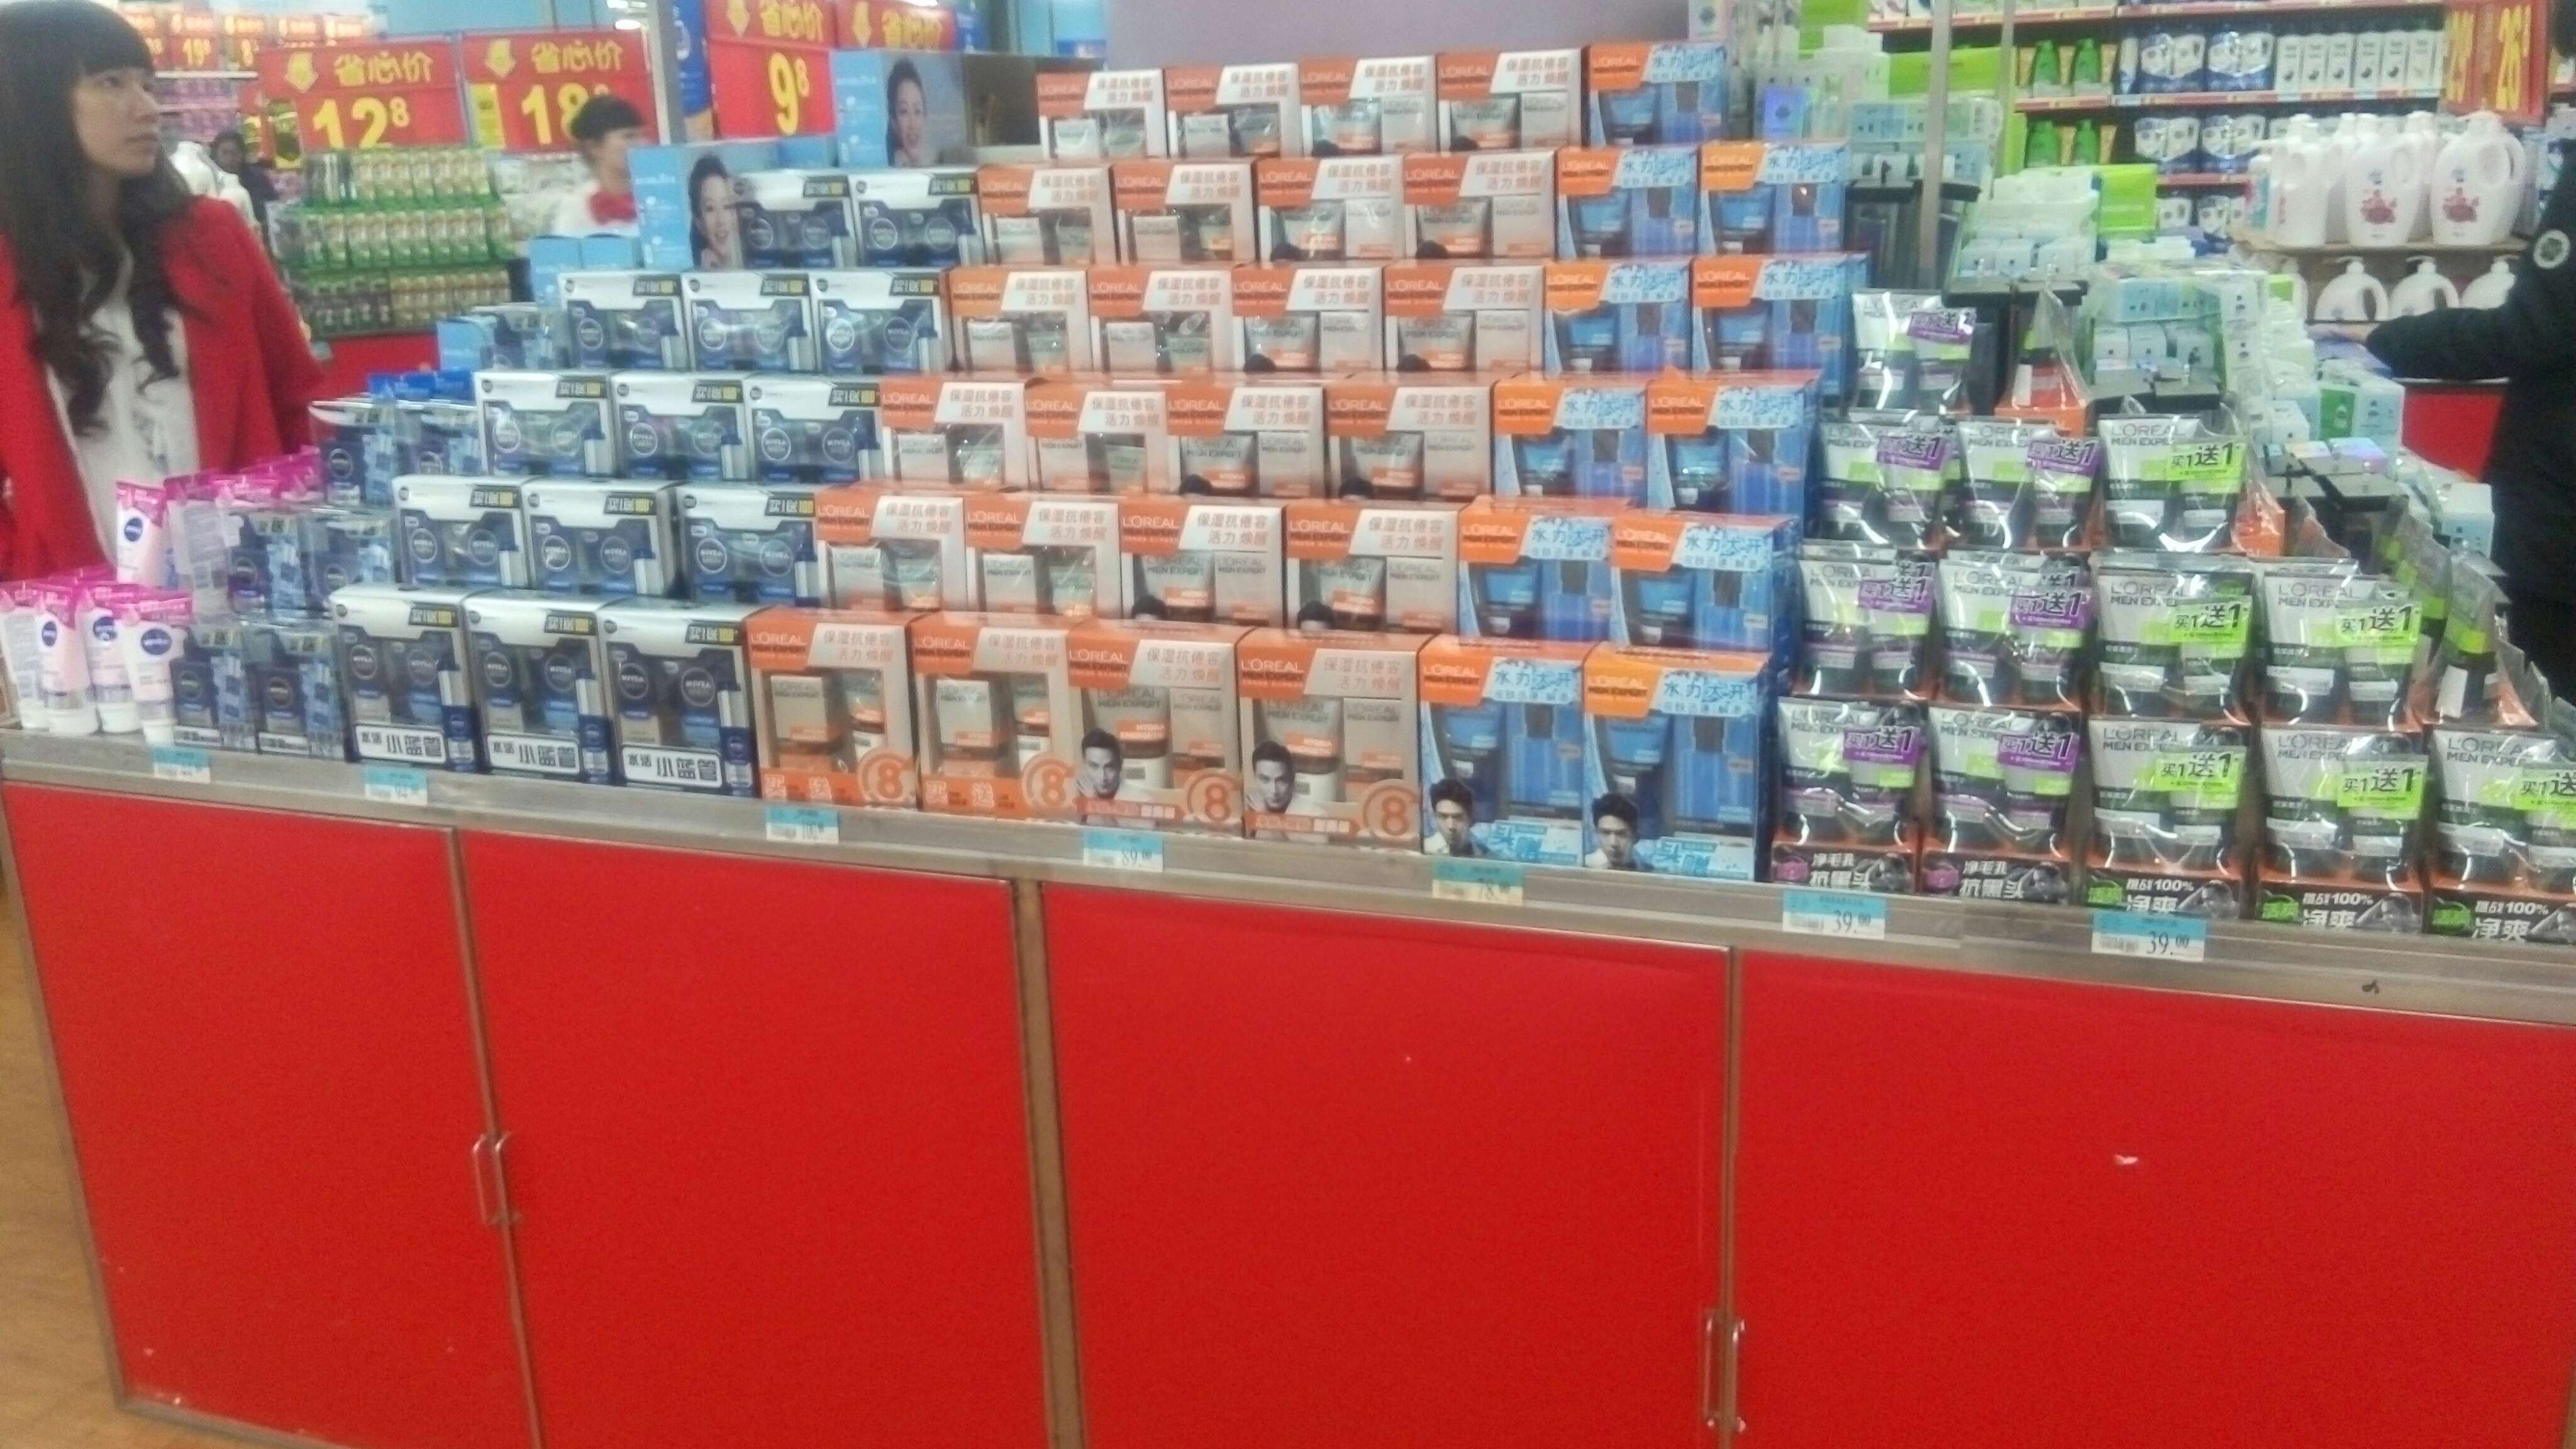product: (2263, 708, 2443, 954), (1589, 663, 1767, 899), (1921, 701, 2093, 938), (1244, 651, 1414, 879), (2093, 711, 2261, 938), (1414, 663, 1589, 879), (1062, 653, 1240, 840), (2443, 708, 2569, 957), (1767, 701, 1923, 899), (913, 637, 1060, 840), (602, 610, 757, 800), (333, 591, 481, 775), (757, 628, 904, 800), (2093, 566, 2265, 702), (1615, 510, 1767, 642), (1120, 504, 1286, 623), (2100, 410, 2238, 552), (1937, 557, 2086, 688), (527, 471, 676, 600), (1495, 377, 1649, 501), (1461, 513, 1612, 639), (483, 614, 596, 777), (1405, 143, 1552, 262), (1651, 384, 1799, 501), (1286, 517, 1449, 623), (814, 501, 971, 609), (1385, 265, 1539, 375), (1334, 384, 1476, 499), (1693, 257, 1840, 366), (1545, 260, 1693, 368), (973, 502, 1120, 609), (1815, 550, 1927, 690), (1553, 143, 1697, 251), (1171, 389, 1316, 495), (1093, 272, 1242, 372), (1697, 149, 1847, 246), (676, 487, 809, 596), (1028, 386, 1164, 490), (1244, 269, 1382, 372), (1113, 166, 1261, 260), (474, 372, 614, 469), (1261, 163, 1401, 258), (881, 386, 1021, 481), (745, 380, 879, 479), (982, 166, 1115, 265), (1168, 62, 1300, 159), (685, 276, 817, 372), (1438, 50, 1578, 138), (955, 272, 1085, 368), (819, 278, 947, 372), (614, 379, 745, 469), (2427, 111, 2516, 244), (1039, 69, 1168, 159), (395, 487, 518, 580), (856, 172, 975, 269), (729, 179, 855, 269), (2254, 119, 2342, 242), (566, 276, 685, 364), (2344, 120, 2427, 244), (1948, 412, 2033, 531), (1309, 58, 1431, 140), (173, 639, 257, 755), (2427, 575, 2496, 706), (1974, 166, 2098, 239), (2035, 412, 2095, 559), (2268, 571, 2332, 706), (258, 642, 333, 755), (221, 518, 299, 626), (1882, 405, 1946, 534), (1806, 405, 1875, 515), (2342, 594, 2410, 699), (83, 605, 134, 741), (133, 594, 179, 741), (1585, 41, 1652, 140), (1849, 290, 1907, 400), (453, 311, 566, 366), (1658, 42, 1721, 140), (37, 603, 83, 736), (1909, 308, 1974, 398), (324, 410, 386, 499), (108, 487, 165, 582), (165, 497, 221, 589), (313, 511, 386, 582), (1760, 37, 1806, 140), (2098, 165, 2157, 237), (2304, 389, 2355, 433), (2355, 386, 2403, 432), (2171, 327, 2212, 373), (2219, 318, 2259, 363), (2035, 241, 2089, 272), (2095, 333, 2132, 377), (2134, 333, 2171, 373), (2335, 444, 2390, 471), (2222, 364, 2261, 402), (2111, 280, 2148, 315), (2219, 287, 2258, 320), (1999, 242, 2036, 272), (2176, 283, 2206, 318), (1960, 244, 1999, 271), (2151, 281, 2176, 320), (2295, 453, 2335, 472)
